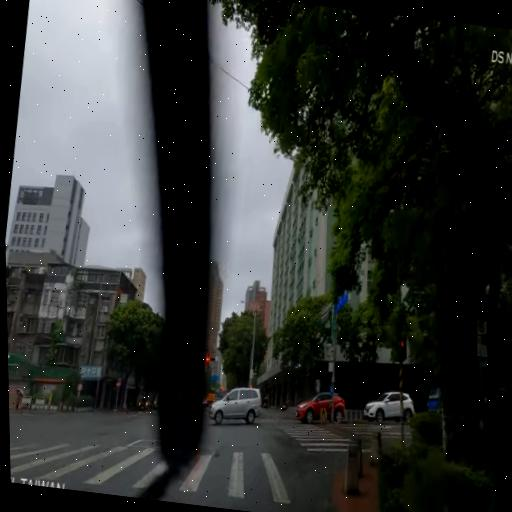Car: (204, 376, 266, 433), (291, 384, 349, 430), (360, 386, 416, 428)
